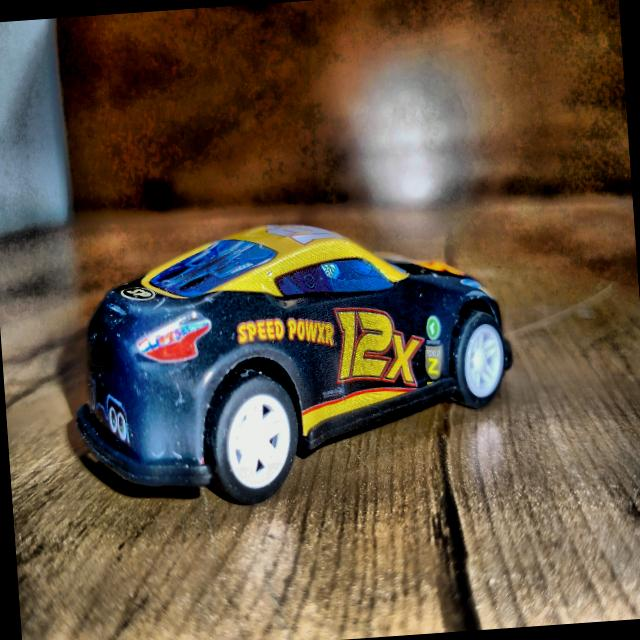Car: (64, 208, 520, 515)
